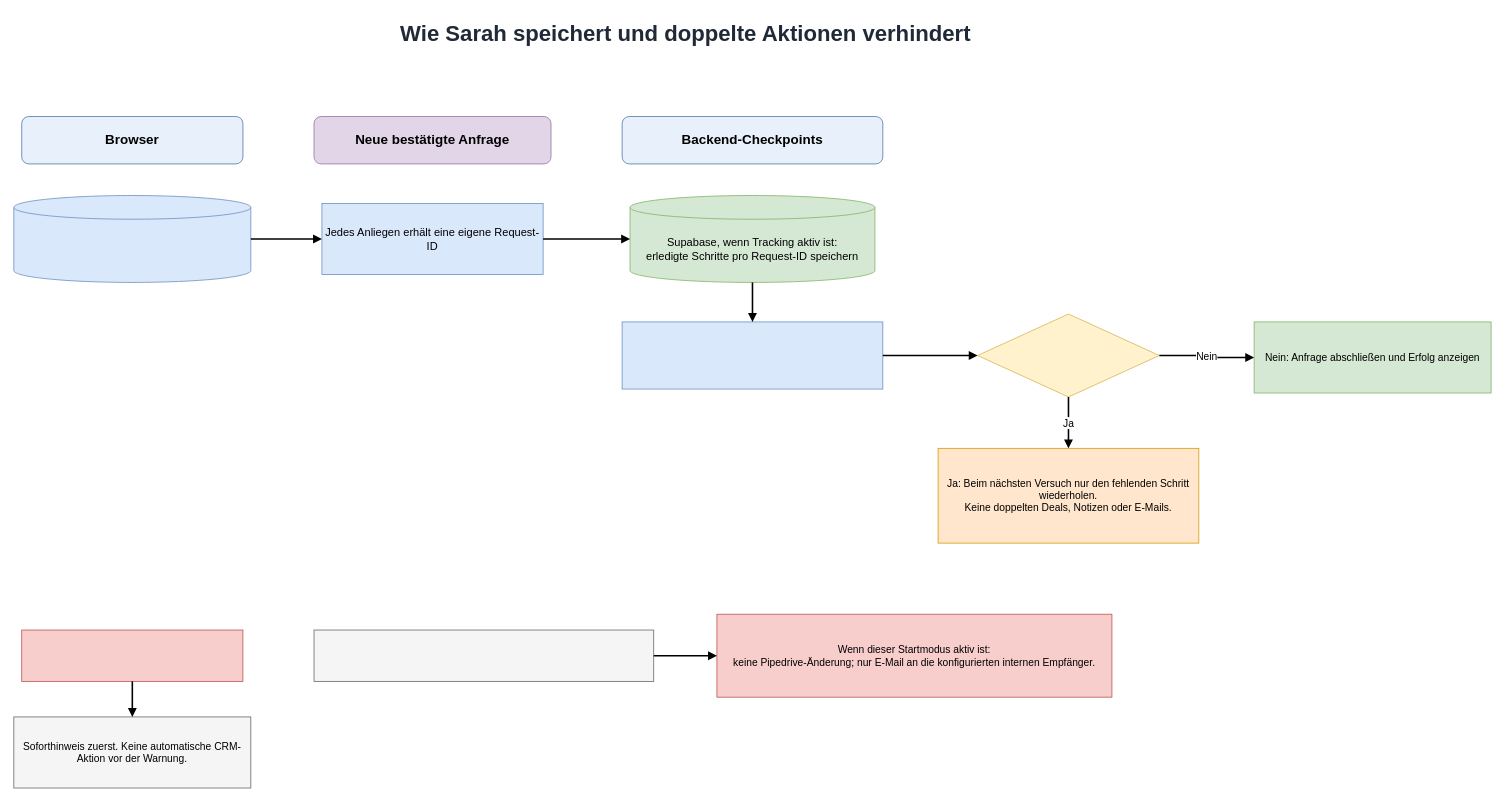
Image size: 1505x802. Some labels were removed from this diagram. Each missing label, with the centre of its shape:
Chatverlauf, Session-ID, aktive Request-ID und Abschlussstatus lokal speichern: point 132,238
CRM | Notiz | einzelne E-Mail-Empfänger | abgeschlossen: point 752,355
Notfall: point 132,655
Optionaler Pipedrive-Bypass: point 483,655
Schritt fehlgeschlagen?: point 1068,355
